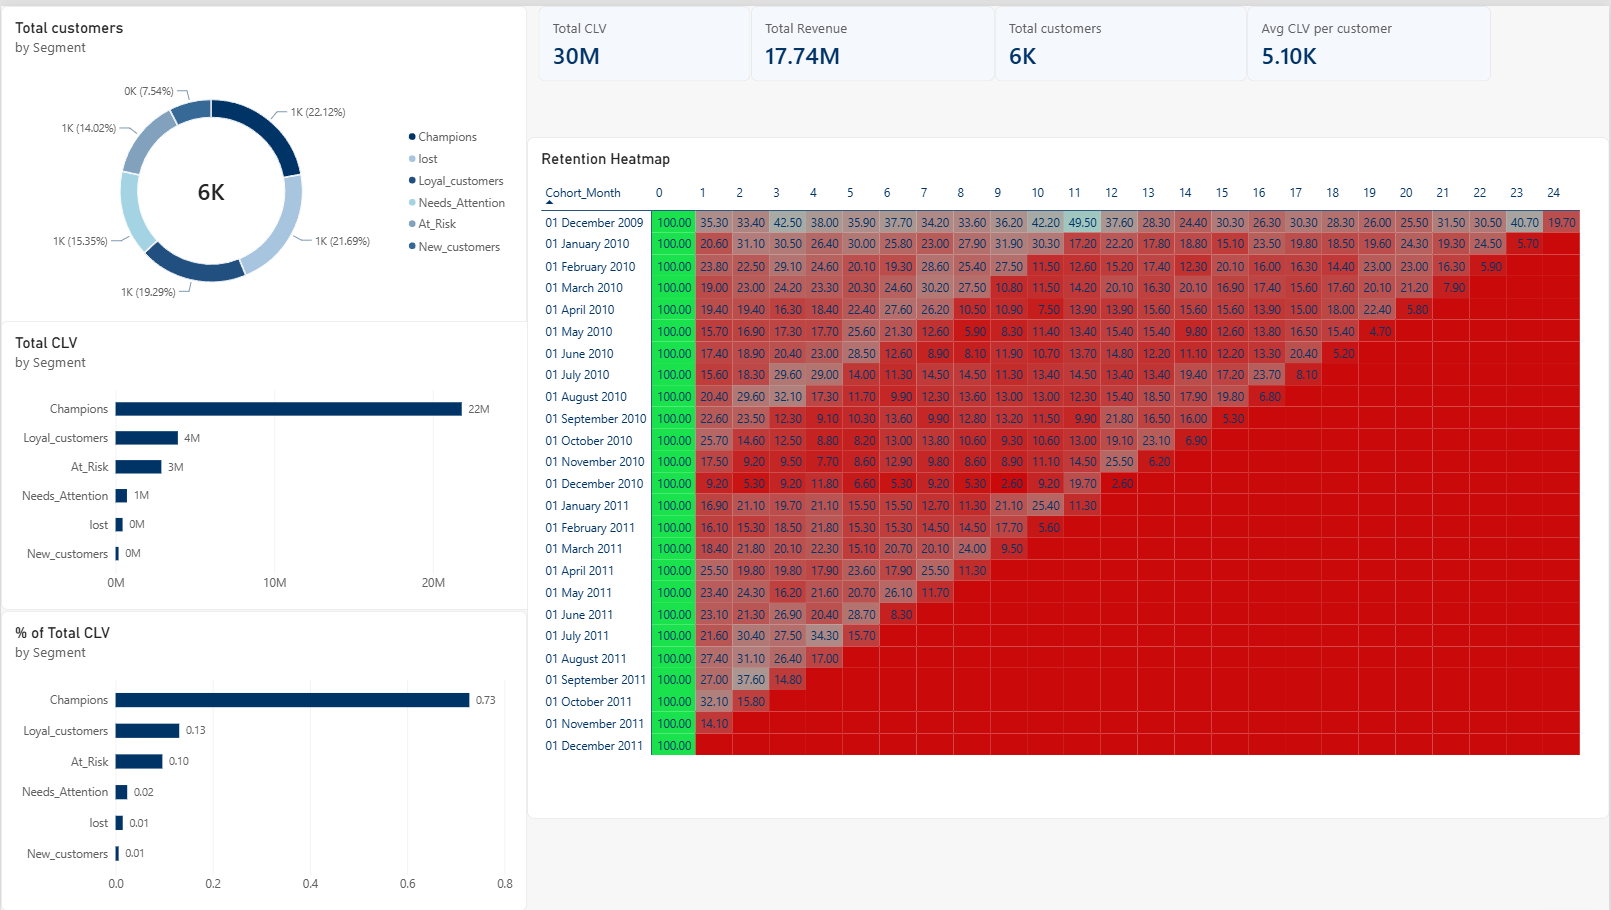

What the dashboard file says about the page in this screenshot:
{"tool":"powerbi","page":{"name":"RFM & Cohort retention","canvas":[1920,1080],"ordinal":0},"visuals":[{"type":"donutChart","fields":{"Y":["customer_features.Total customers"],"Category":["customer_features.Segment"]},"box":[0,0,628.3,383.3],"z":0},{"type":"clusteredBarChart","fields":{"Category":["customer_features.Segment"],"Y":["customer_features.Total CLV"]},"box":[0,376.7,641.7,345],"z":1000},{"type":"clusteredBarChart","fields":{"Category":["customer_features.Segment"],"Y":["customer_features.% of Total CLV"]},"box":[0,721.7,628.3,358.3],"z":2000},{"type":"pivotTable","title":"Retention Heatmap","fields":{"Columns":["cohort_retention.Cohort_Index"],"Rows":["cohort_retention.Cohort_Month"],"Values":["Sum(cohort_retention.Retention_Pct)"]},"box":[628.3,156.7,1291.7,813.3],"z":3000},{"type":"cardVisual","fields":{"Data":["customer_features.Total CLV"]},"box":[641.7,0,253.3,90],"z":4000},{"type":"cardVisual","fields":{"Data":["customer_features.Total Revenue"]},"box":[895,0,291.7,90],"z":5000},{"type":"cardVisual","fields":{"Data":["customer_features.Total customers"]},"box":[1186.7,0,301.7,90],"z":6000},{"type":"cardVisual","fields":{"Data":["customer_features.Avg CLV per customer"]},"box":[1488.3,0,291.7,90],"z":7000}]}

Visuals, with their boxes in screenshot pixels (x1, y1, x2, y2), scaled from the page's 1920x1080 canvas onto the 1611x910 screenshot:
donutChart - customer_features.Total customers x customer_features.Segment: 0 0 527 323
clusteredBarChart - customer_features.Segment x customer_features.Total CLV: 0 317 538 608
clusteredBarChart - customer_features.Segment x customer_features.% of Total CLV: 0 608 527 909
"Retention Heatmap" pivotTable: 527 132 1610 817
cardVisual - customer_features.Total CLV: 538 0 751 76
cardVisual - customer_features.Total Revenue: 751 0 996 76
cardVisual - customer_features.Total customers: 996 0 1249 76
cardVisual - customer_features.Avg CLV per customer: 1249 0 1494 76
